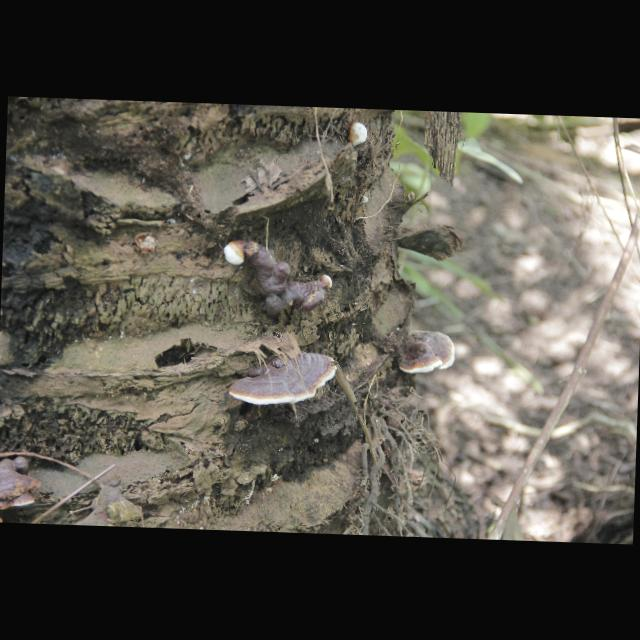ganoderma: (244, 241, 328, 321), (229, 349, 339, 410), (397, 329, 457, 376), (1, 454, 43, 512)
primordium: (224, 240, 247, 267), (347, 121, 369, 147), (320, 276, 334, 291), (363, 197, 369, 204)
